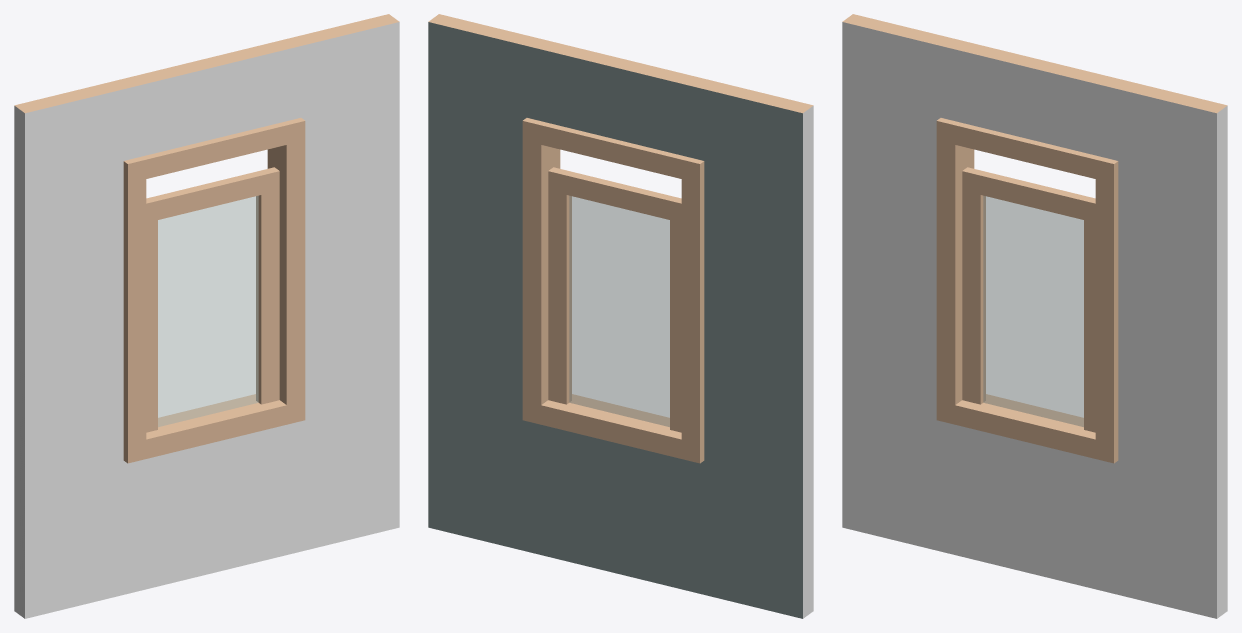
File: wallWindow.glb
3 renders of one model, left to right at view 1: azimuth 30°, elevation 25°; view 2: azimuth 150°, elevation 25°; view 3: azimuth 330°, elevation 25°, orthographic.
Parts seen in each view (by area): view 1: wallWindow, wallWindow.001; view 2: wallWindow, wallWindow.001; view 3: wallWindow, wallWindow.001.
Part boxes in pixels (x1,y1,x2,y2): wallWindow: (14, 14, 399, 618); wallWindow.001: (146, 167, 279, 432); wallWindow: (428, 14, 813, 618); wallWindow.001: (548, 167, 681, 432); wallWindow: (842, 14, 1227, 618); wallWindow.001: (962, 167, 1095, 432).
Bounding box in the file's own units: 3 × 3.87 × 0.2673.
